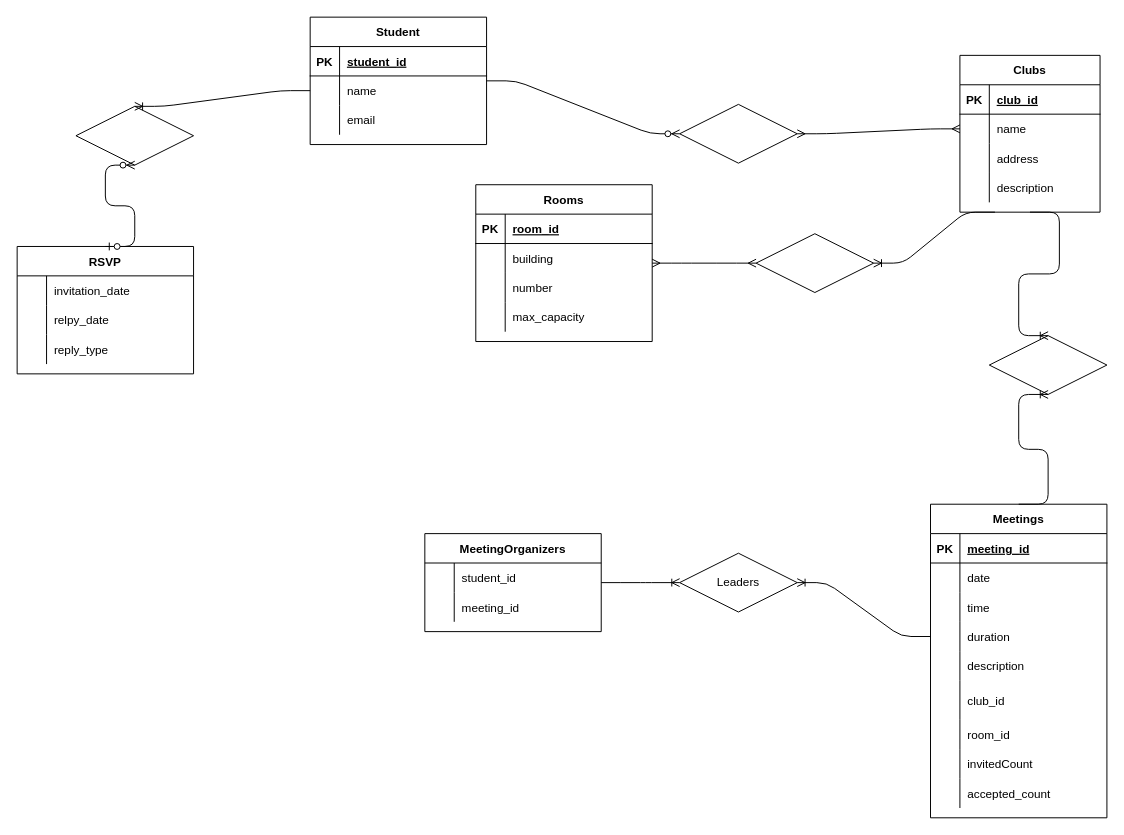
The diagram is 1124 pixels wide and 835 high, and some of its shapes have lost their labels. The centre of each missing label's shape, as x and y in pixels:
"Attendance" goes at pixel 134 135.
"Booking" goes at pixel 814 263.
"Club Meets" goes at pixel 1047 364.
"Participation" goes at pixel 738 133.
